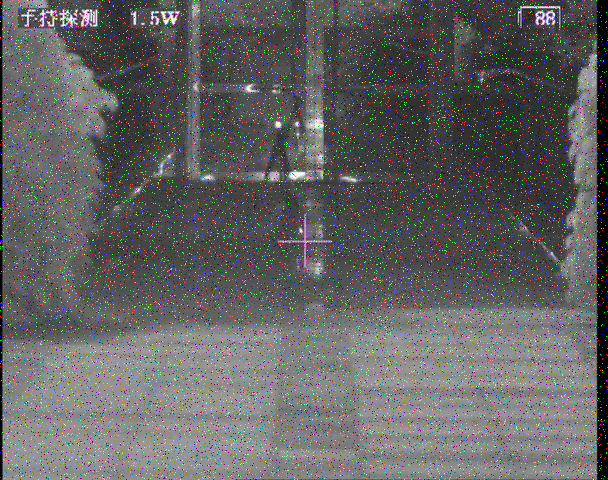my: (274, 121, 283, 130)
